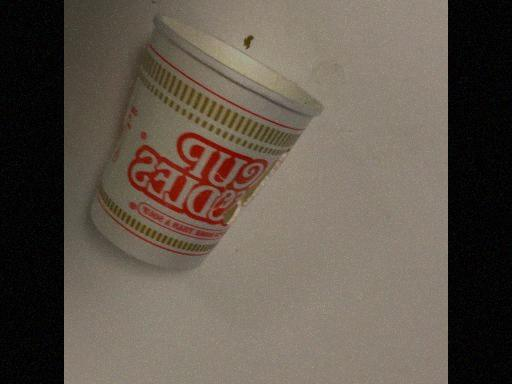trash: (82, 6, 323, 271)
